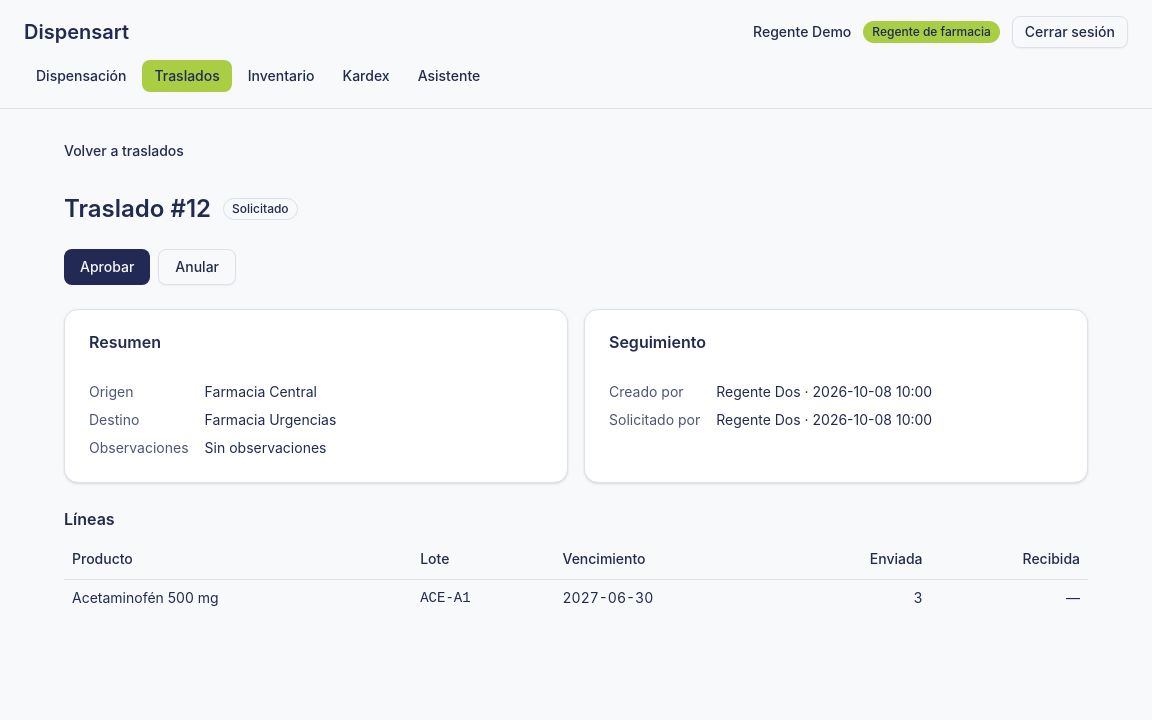
Test: Traslados › acciones según estado y rol › Segregación rechazada por el servidor: mensaje y el estado sigue "Solicitado"
Expected: the heading "Traslado #12" is shown, [64,193,211,225]
What coordinates should you click on to do the following:
click the button "Aprobar"
I would click on:
 (107, 267)
Its box is [64,249,150,285].
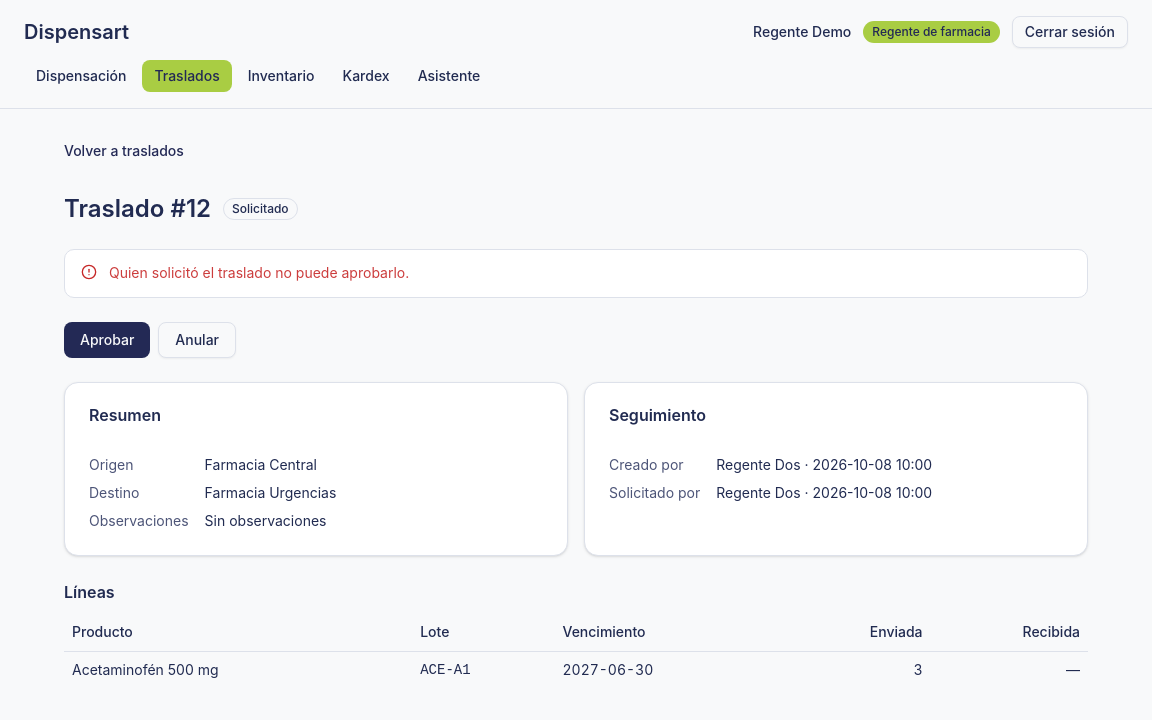
Expected: the text "Solicitado" is shown, [223,198,298,220]
Now the message reads "Quien solicitó el traslado no puede aprobarlo.", box [109,264,409,281]
